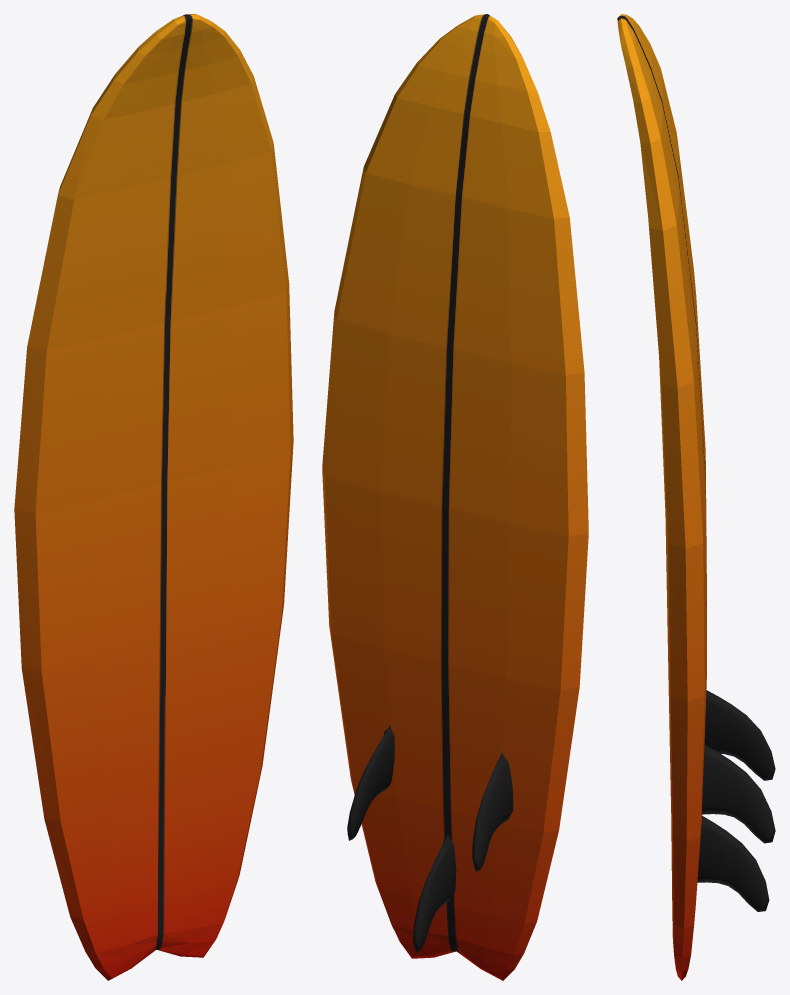
The model's file is beach_assets_surfboard.fbx.
3 views of the same model, side by side, from view 1: azimuth 30°, elevation 25°; view 2: azimuth 150°, elevation 25°; view 3: azimuth 270°, elevation 25° (orthographic). The views are drawn at different scales.
Parts seen in each view (by area): view 1: beach_assets_surfboard; view 2: beach_assets_surfboard; view 3: beach_assets_surfboard.
Part boxes in pixels (left/top/right/bottom): beach_assets_surfboard: left=14, top=14, right=293, bottom=980; beach_assets_surfboard: left=322, top=14, right=588, bottom=980; beach_assets_surfboard: left=617, top=14, right=775, bottom=980.
Bounding box in the file's own units: 76.02 × 254 × 38.68.
1 material, 1 textured.
